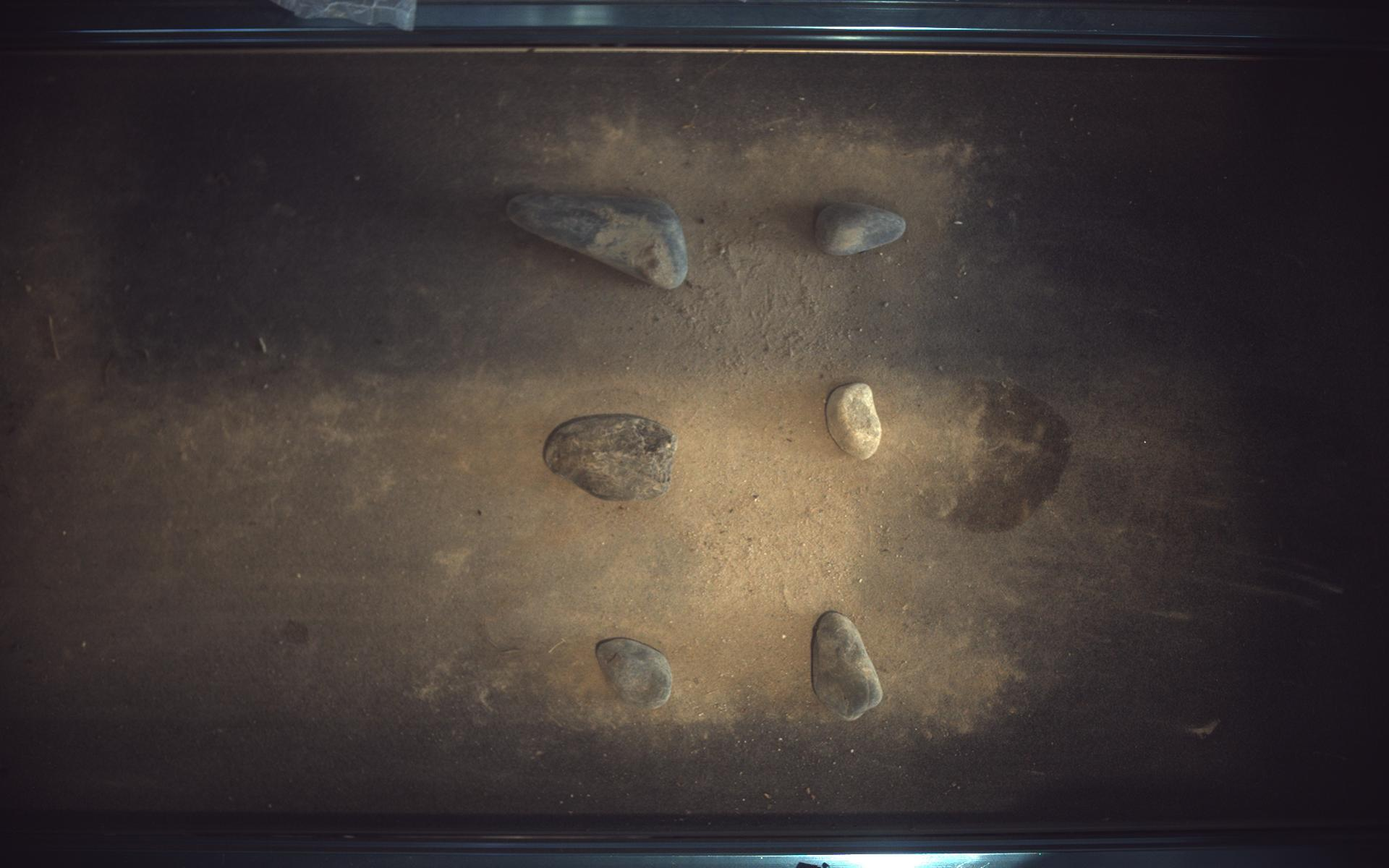stone: (507, 192, 689, 289), (543, 414, 679, 501), (812, 612, 884, 722), (596, 639, 674, 710), (818, 203, 907, 255), (828, 383, 883, 459)
